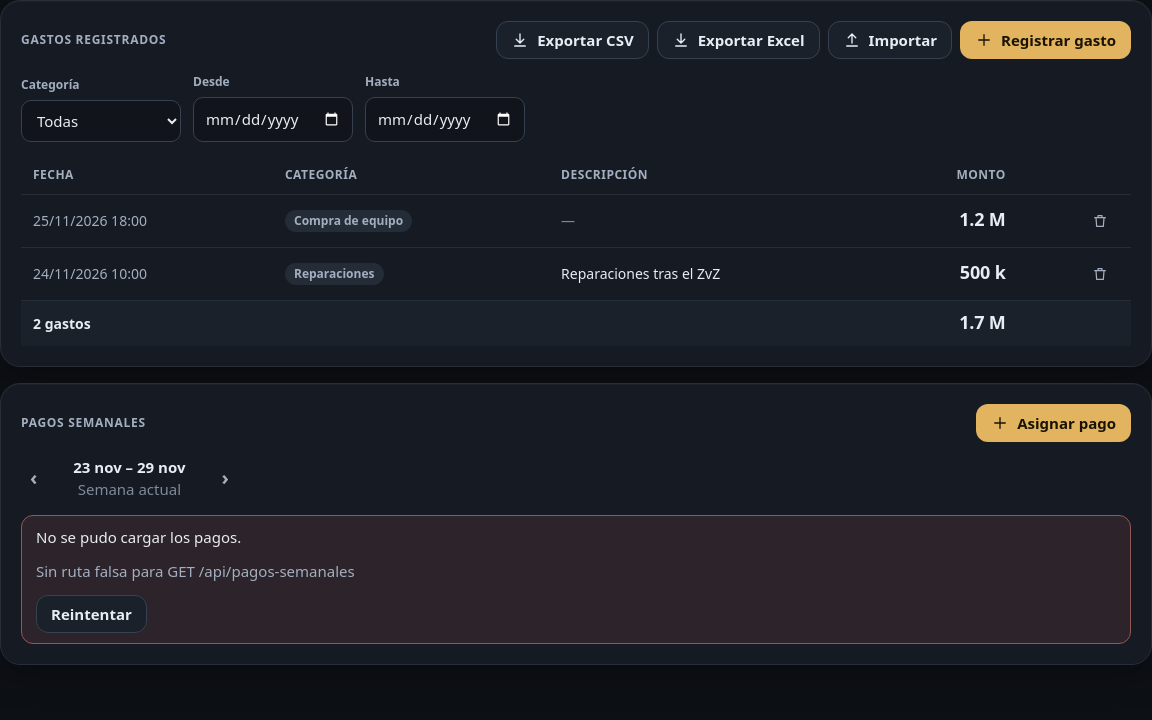
Test: permisos y acciones › el admin elimina un gasto confirmando en dos pasos
Expected: the table is shown, [21,156,1131,346]
# el gasto 1 (Reparaciones) es la segunda fila, porque el más reciente va arriba
Step 1. Click the button named "eliminar gasto de reparaciones" → coordinates (1100, 274), box [1081,260,1119,288]
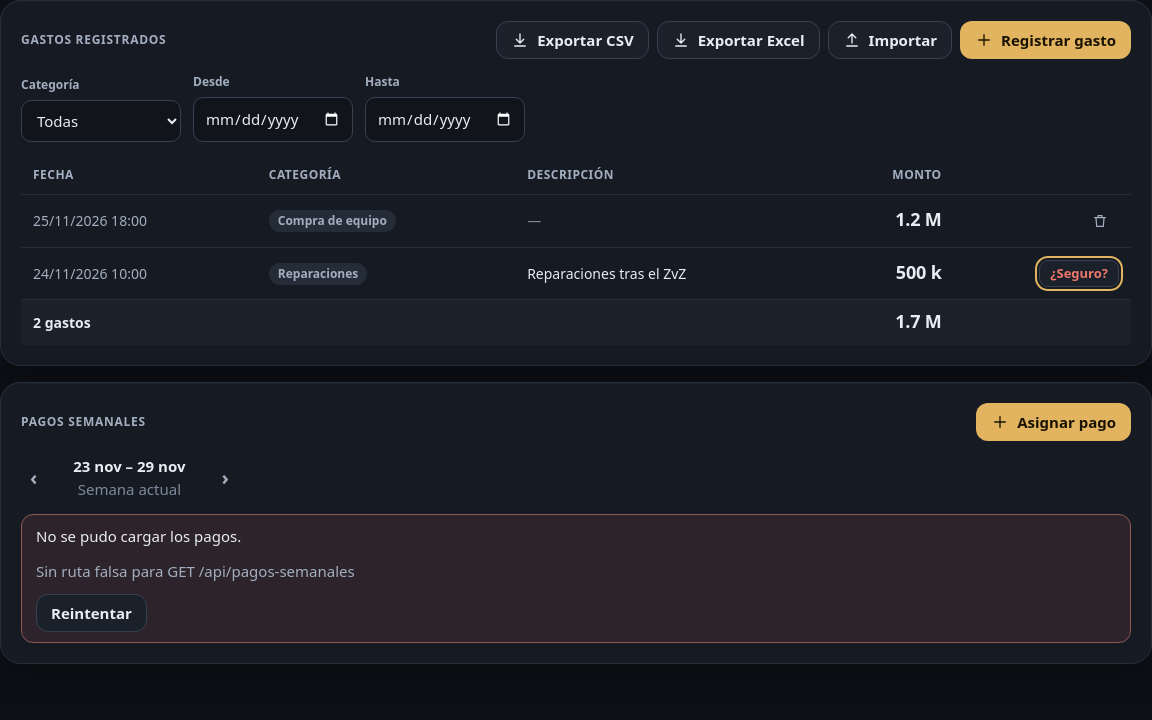
Step 2. Click the button with aria-label "confirmar eliminación" → coordinates (1079, 273), box [1039,260,1119,287]
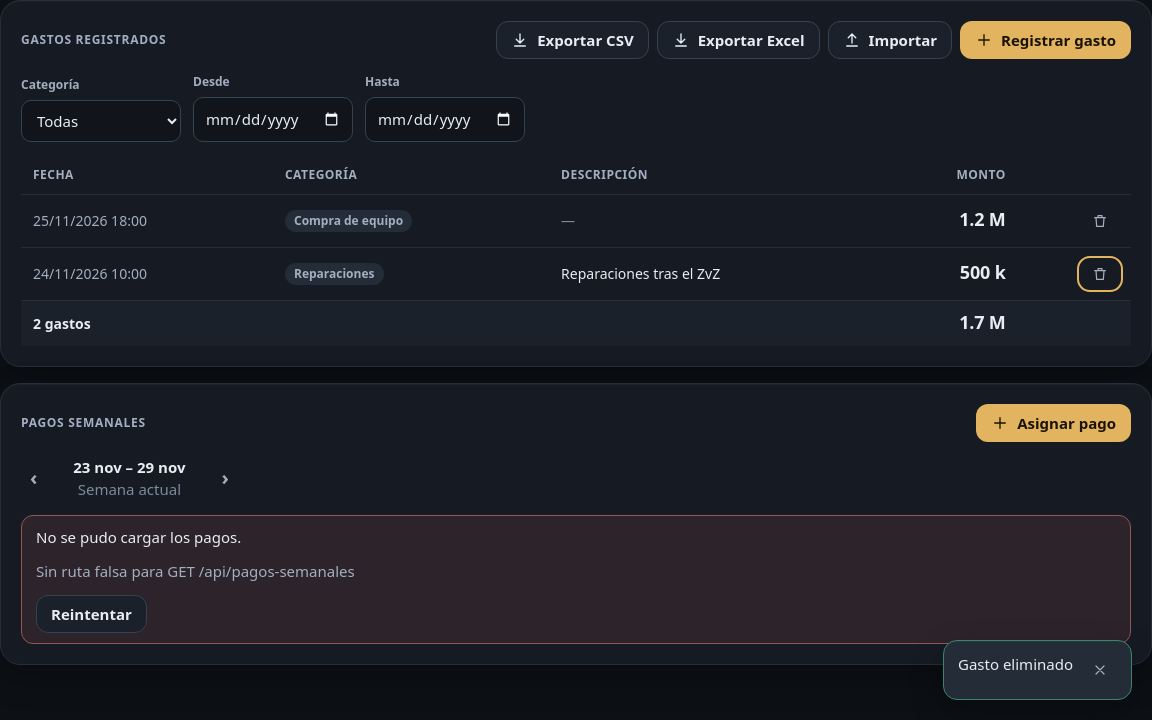
Expected: the text "Gasto eliminado" is shown, [958,653,1073,676]
